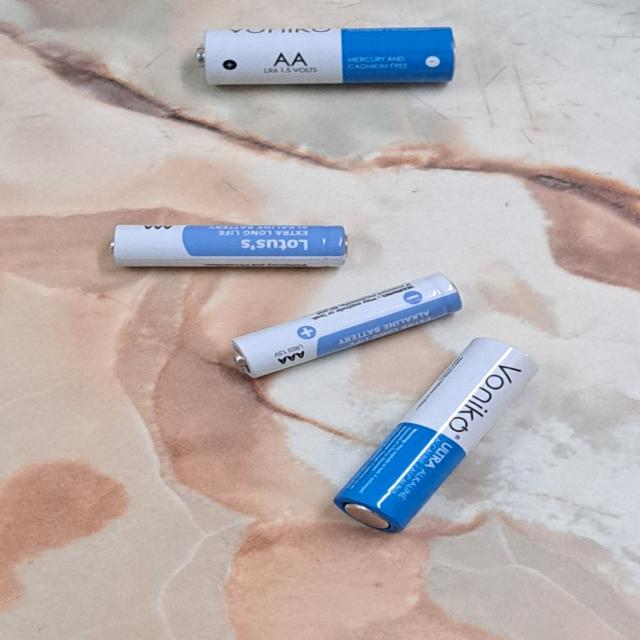battery: (334, 337, 541, 534), (232, 272, 464, 379), (196, 26, 456, 85), (109, 225, 348, 268)
